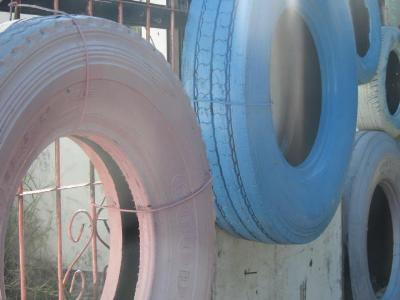tire: (3, 14, 217, 300), (183, 1, 359, 248), (342, 129, 399, 300)
